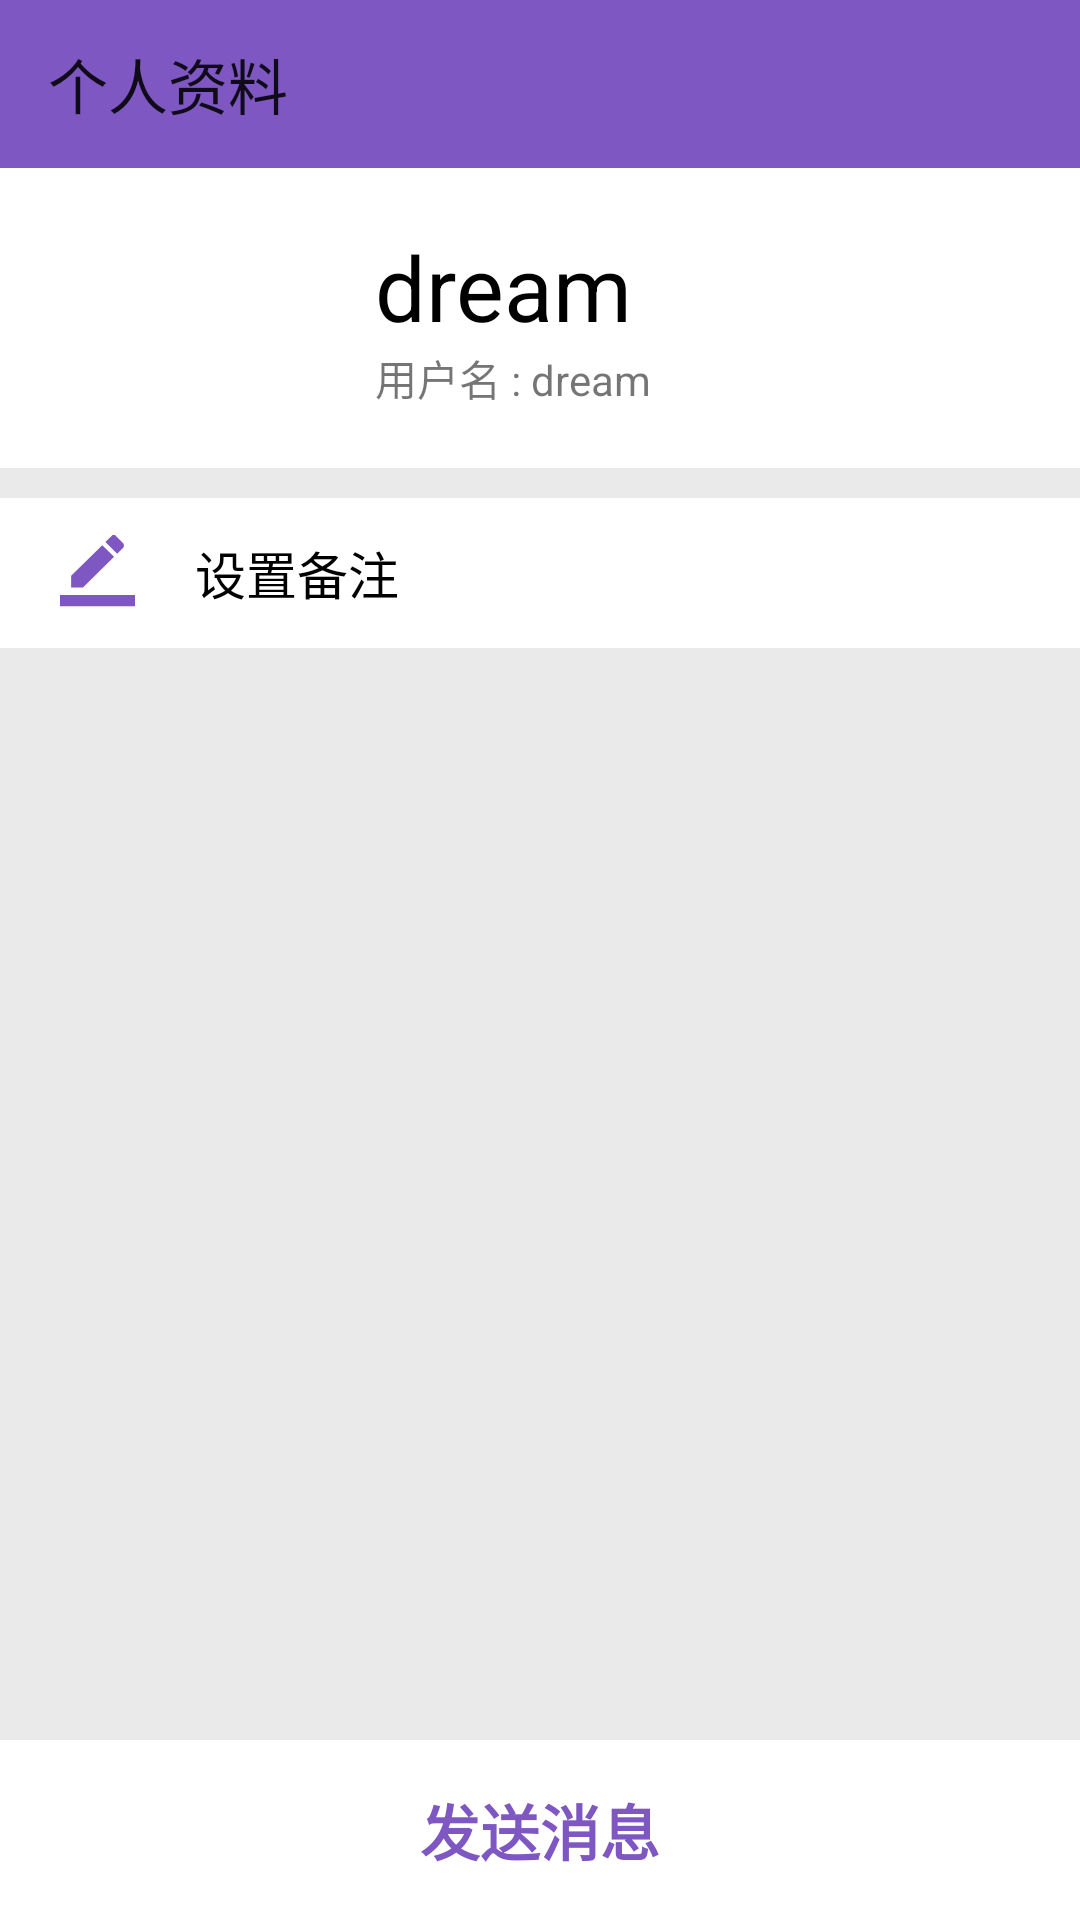

Point at icon controls on the screen. Image size 1080 x 1920, points as (x,y).
edit: (97,571)
